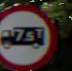Heavy Vehicles: (1, 2, 55, 70)
